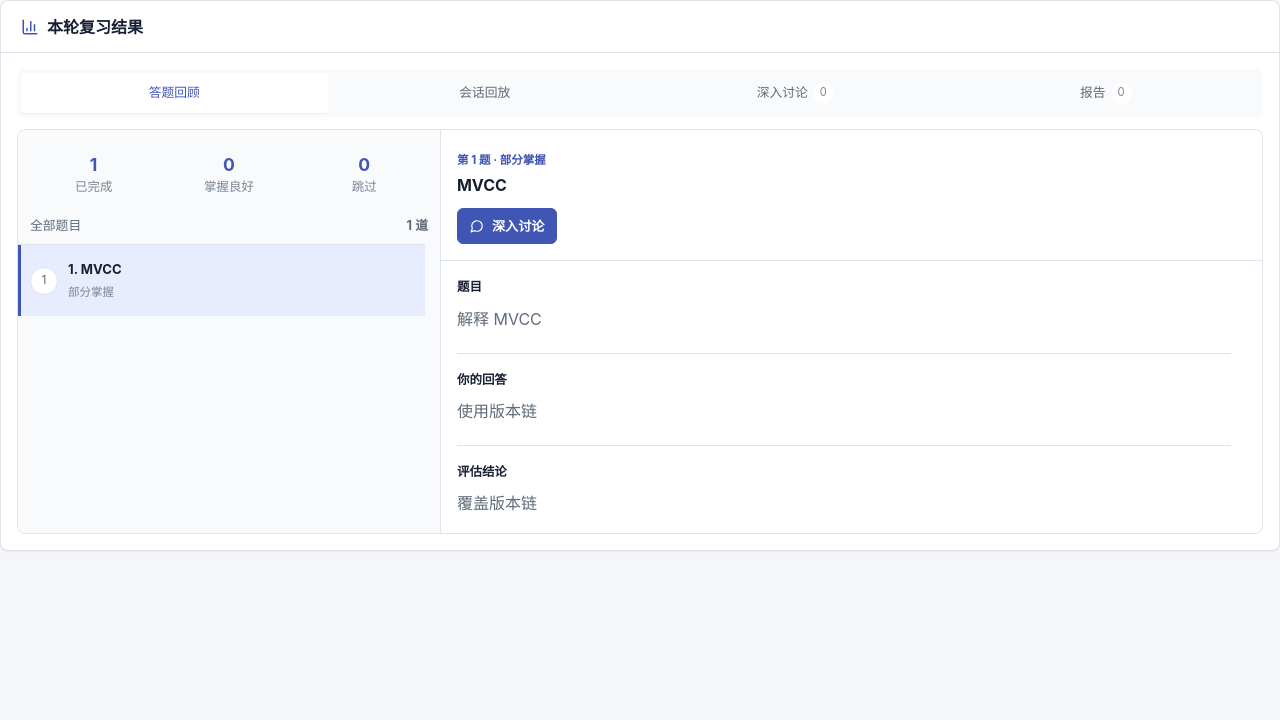
Test: ReviewResults › rebuilds replay from durable attempts when legacy messages are absent
This screenshot has width=1280, height=720.
Expected: the button with aria-label "已完成 1，点击筛选" is shown, [30,142,157,204]
Click the tab "会话回放" at coordinates (485, 93), box [332,73,638,113]
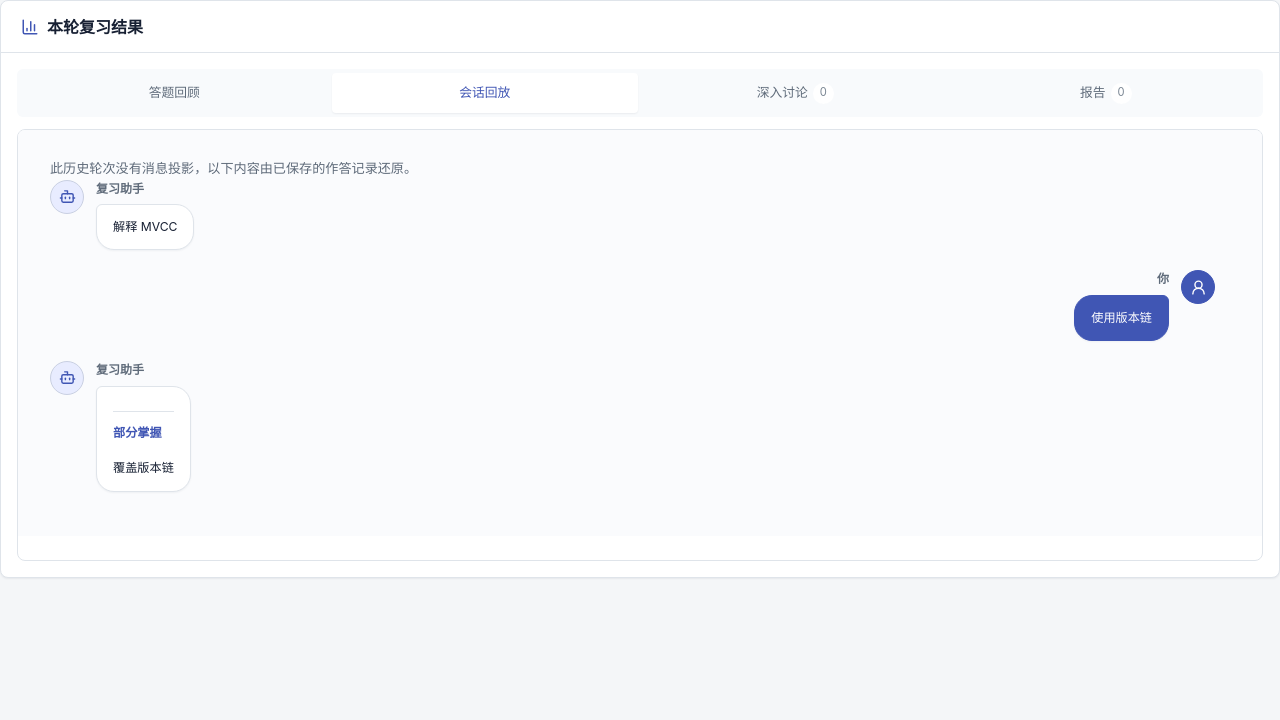
Now the element named "复习会话回放" shows "由已保存的作答记录还原", box [50,160,417,176]
Now the element named "复习会话回放" shows "解释 MVCC", box [113,219,178,234]
Now the element named "复习会话回放" shows "使用版本链", box [1091,310,1152,325]
